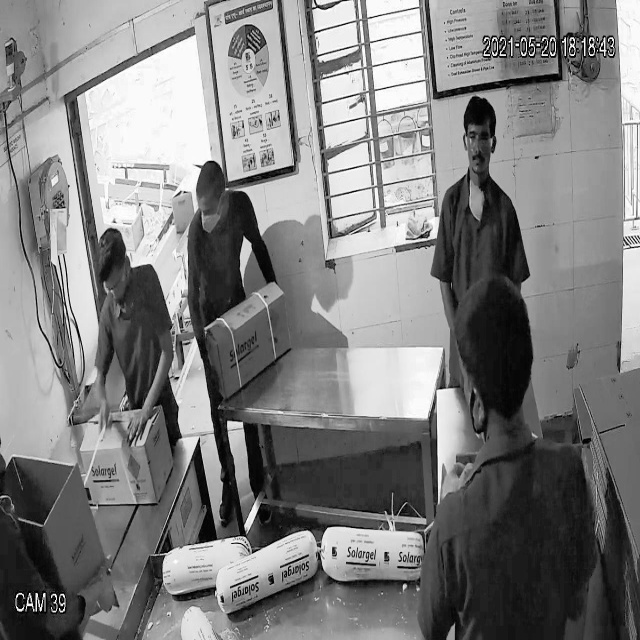Gafas: (460, 126, 498, 152)
